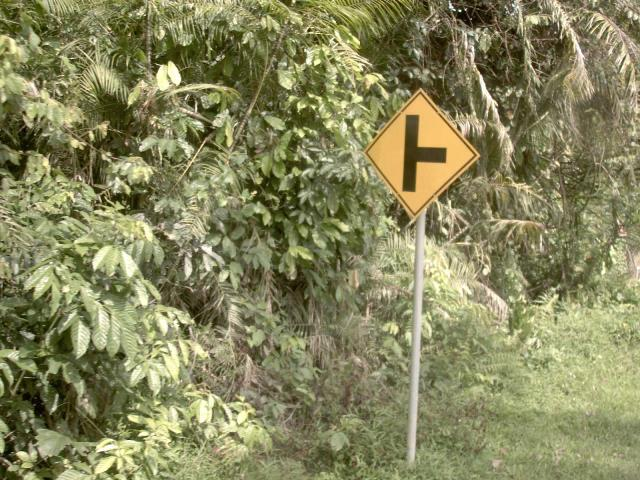traffic_sign: (355, 74, 487, 227)
